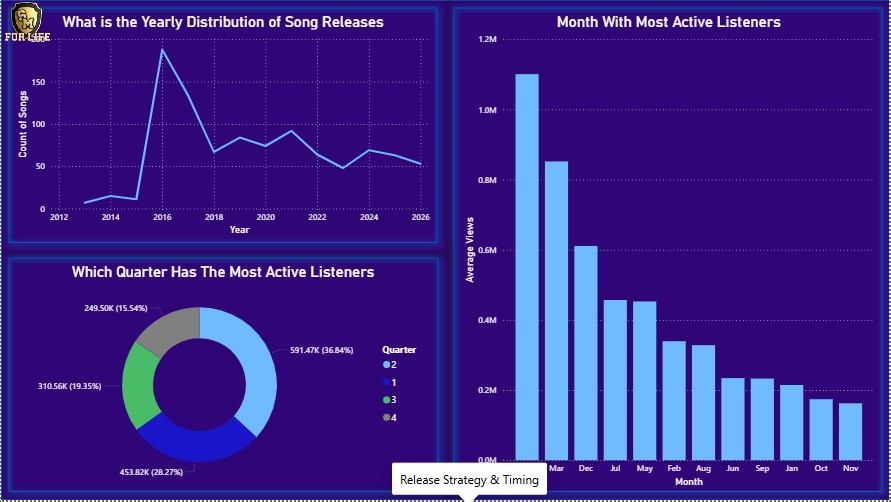

Layout of this report page (visuals, bound fields, positions):
{"tool":"powerbi","page":{"name":"Release Strategy & Timing","canvas":[1280,720],"ordinal":2},"visuals":[{"type":"shape","title":"Background","box":[0,0,1280.2,720],"z":0},{"type":"shape","box":[0,0,639.1,360.6],"z":5000},{"type":"lineChart","title":"What is the Yearly Distribution of Song Releases","fields":{"Category":["songs_fact_table.release_year"],"Y":["CountNonNull(songs_fact_table.title)"]},"box":[17.1,18.8,605,324.7],"z":5500},{"type":"image","box":[0,0,73.4,61.9],"z":5750},{"type":"shape","box":[0,360.6,640.9,358.9],"z":6000},{"type":"donutChart","title":"Which Quarter Has The Most Active Listeners","fields":{"Category":["songs_fact_table.release_quarter"],"Y":["Avg(platform_metrics_dim_table.views)"]},"box":[17.1,379.4,605,326.4],"z":6500},{"type":"shape","box":[640.9,0,639.1,719.5],"z":7000},{"type":"columnChart","title":"Month With Most Active Listeners","fields":{"Category":["songs_fact_table.release_month"],"Y":["Avg(platform_metrics_dim_table.views)"]},"box":[661.4,18.8,601.5,687],"z":7500}]}

Visuals, with their boxes in screenshot pixels (x1, y1, x2, y2), scaled from the page's 1280x720 canvas onto the 891x502 screenshot:
"Background" shape: crop(0, 0, 890, 501)
shape: crop(0, 0, 445, 251)
"What is the Yearly Distribution of Song Releases" lineChart: crop(12, 13, 433, 239)
image: crop(0, 0, 51, 43)
shape: crop(0, 251, 446, 501)
"Which Quarter Has The Most Active Listeners" donutChart: crop(12, 265, 433, 492)
shape: crop(446, 0, 890, 501)
"Month With Most Active Listeners" columnChart: crop(460, 13, 879, 492)
